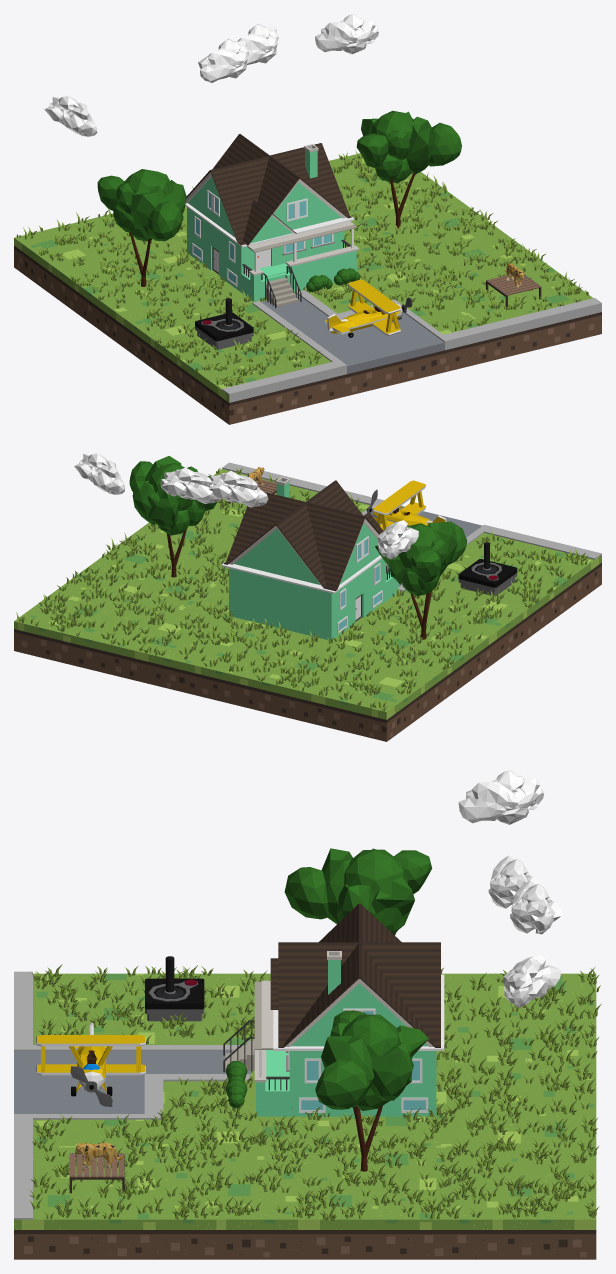
The picture shows the model from 3 angles, top to bottom: view 1: azimuth 30°, elevation 25°; view 2: azimuth 150°, elevation 25°; view 3: azimuth 270°, elevation 25°; orthographic projection. The views are drawn at different scales.
Parts seen in each view (by area): view 1: Cube.006, Cube.352, Circle.012_Grass_0.192, Cube.007, tree, tree.001, VEHICLES_AIRPLANE, OBJRANDOM_JOYSTICK, Cube.009; view 2: Cube.006, Cube.352, Circle.012_Grass_0.192, Cube.007, tree.001, tree, VEHICLES_AIRPLANE, OBJRANDOM_JOYSTICK; view 3: Cube.006, Circle.012_Grass_0.192, Cube.352, tree, Cube.007, tree.001, VEHICLES_AIRPLANE, OBJRANDOM_JOYSTICK, Cube.009, ANIMAL_JAGUAR.
Part boxes in pixels (x1,y1,x2,y2): Cube.006: [14, 153, 601, 424]; Cube.352: [185, 134, 359, 308]; Circle.012_Grass_0.192: [16, 150, 588, 386]; Cube.007: [44, 14, 378, 136]; tree: [356, 110, 461, 228]; tree.001: [97, 169, 186, 286]; VEHICLES_AIRPLANE: [325, 279, 412, 337]; OBJRANDOM_JOYSTICK: [195, 298, 253, 349]; Cube.009: [486, 274, 541, 306]; Cube.006: [14, 462, 601, 741]; Cube.352: [221, 477, 398, 640]; Circle.012_Grass_0.192: [16, 468, 588, 711]; Cube.007: [74, 453, 418, 559]; tree.001: [375, 521, 467, 639]; tree: [129, 456, 216, 577]; VEHICLES_AIRPLANE: [366, 480, 447, 530]; OBJRANDOM_JOYSTICK: [458, 542, 517, 596]; Cube.006: [14, 971, 596, 1259]; Circle.012_Grass_0.192: [29, 964, 601, 1220]; Cube.352: [223, 903, 444, 1116]; tree: [315, 1010, 428, 1171]; Cube.007: [458, 770, 561, 1007]; tree.001: [284, 848, 432, 935]; VEHICLES_AIRPLANE: [36, 1023, 145, 1106]; OBJRANDOM_JOYSTICK: [145, 956, 204, 1021]; Cube.009: [69, 1153, 124, 1193]; ANIMAL_JAGUAR: [75, 1142, 123, 1167].
Size of the model in its own units: 4071 by 2198 by 4040.
45 materials, 4 textured.
